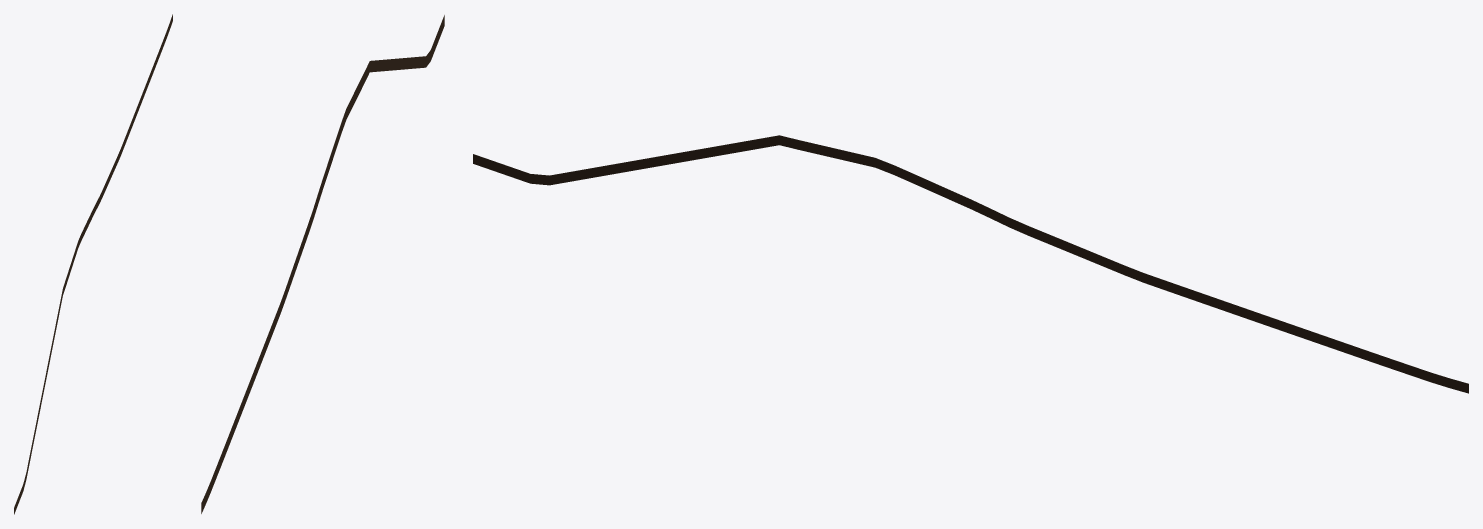
3 renders of one model, left to right at view 1: azimuth 30°, elevation 25°; view 2: azimuth 210°, elevation 25°; view 3: azimuth 270°, elevation 25°, orthographic. The views are drawn at different scales.
Visible parts, largest first — view 1: prototype; view 2: prototype; view 3: prototype.
Boxes of the visible parts, x1,y1,x2,y2 form: prototype: [14, 14, 172, 514]; prototype: [201, 15, 444, 513]; prototype: [473, 135, 1468, 393].
Size of the model in its own units: 16.49 by 3.24 by 20.1.
